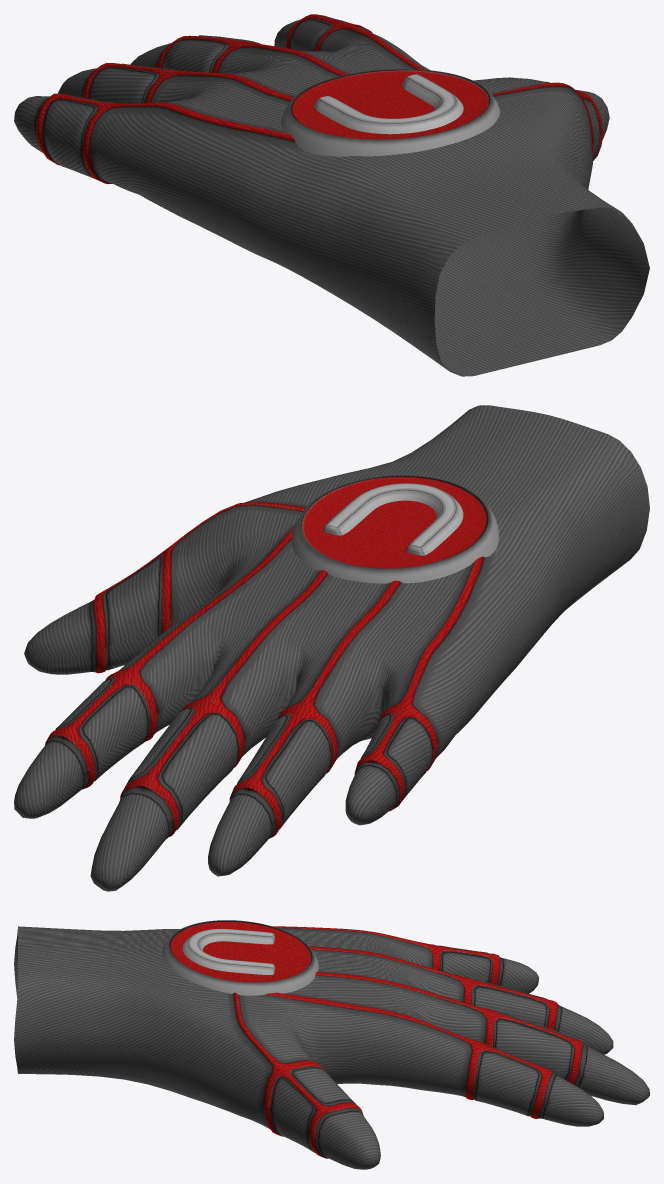
Rendered from Magna_Fist.FBX.
3 views of the same model, one above another, from view 1: azimuth 30°, elevation 25°; view 2: azimuth 150°, elevation 25°; view 3: azimuth 270°, elevation 25° (orthographic). The views are drawn at different scales.
Parts seen in each view (by area): view 1: Cylinder001; view 2: Cylinder001; view 3: Cylinder001.
Boxes of the visible parts, <box> form: Cylinder001: <box>14,14,649,376</box>; Cylinder001: <box>14,405,649,891</box>; Cylinder001: <box>14,920,649,1169</box>.
Bounding box in the file's own units: 35.15 × 14.6 × 55.63.
